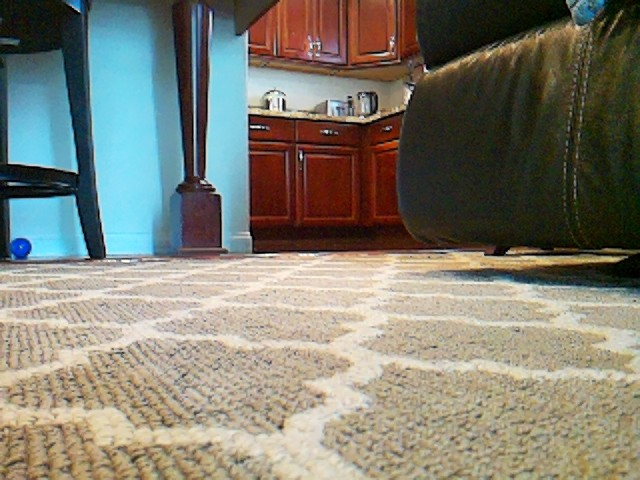Drivable Area: (2, 266, 638, 480)
Obstacle: (396, 3, 640, 246), (0, 0, 98, 258), (171, 0, 230, 253)
